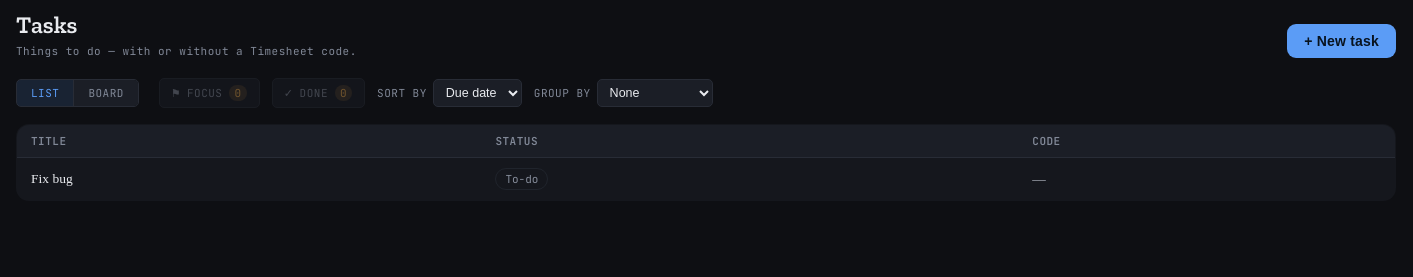
Test: TasksScreen › switches to the kanban board when the board toggle is clicked
Click the button with test id "wk-task-view-board".
click(106, 93)  # box [74,80,138,106]
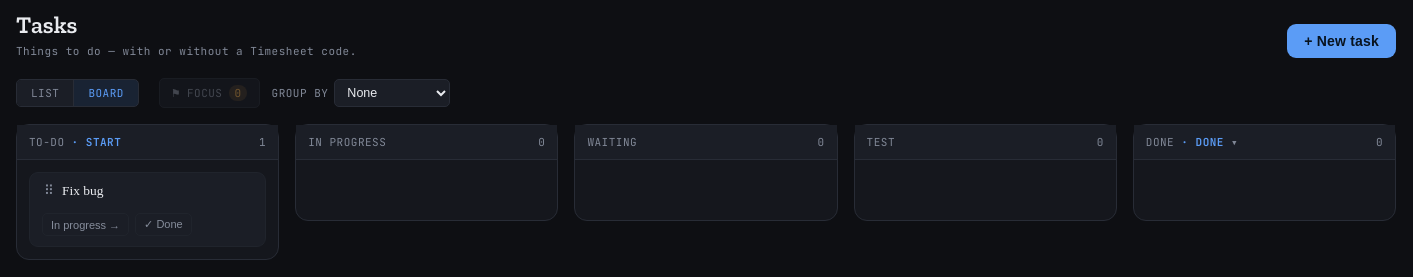
Check: the element with test id "wk-board-column-todo" is shown, box [16,124,279,260]
Check: the table with test id "wk-task-table" is gone
